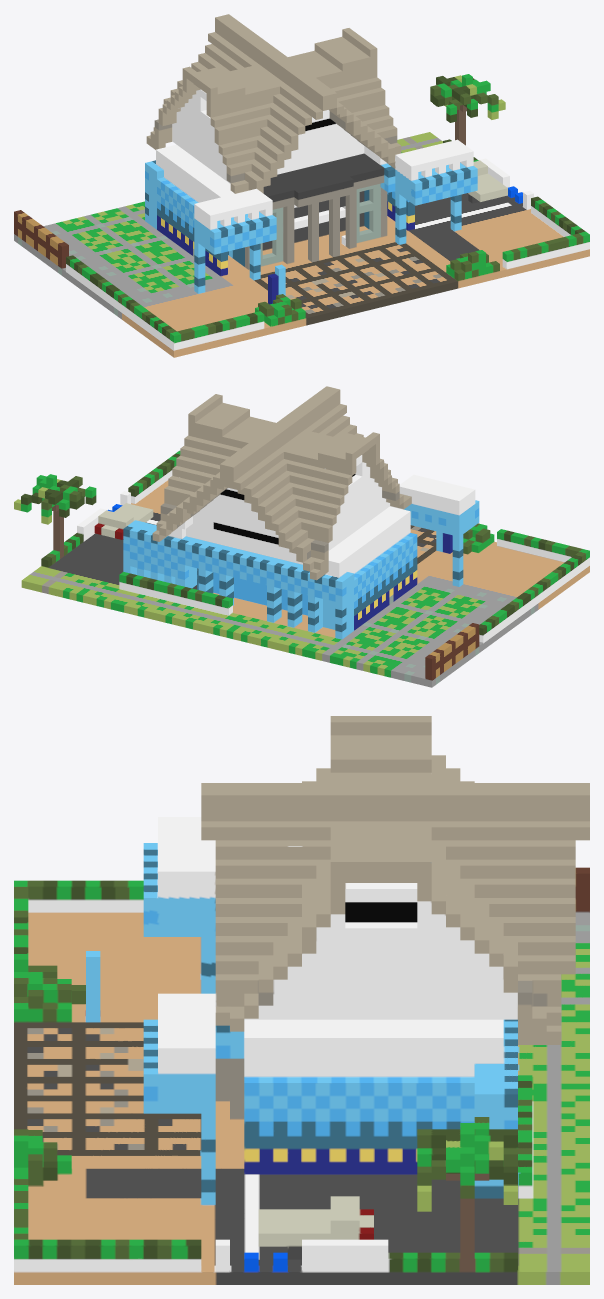
File: kagoshimasuizokukan.glb
The picture shows the model from 3 angles, top to bottom: view 1: azimuth 30°, elevation 25°; view 2: azimuth 150°, elevation 25°; view 3: azimuth 270°, elevation 25°; orthographic projection. The views are drawn at different scales.
Visible parts, largest first — view 1: kagoshimasuizokukan; view 2: kagoshimasuizokukan; view 3: kagoshimasuizokukan.
Part boxes in pixels (x1,y1,x2,y2): kagoshimasuizokukan: [14, 14, 589, 357]; kagoshimasuizokukan: [14, 386, 589, 687]; kagoshimasuizokukan: [14, 716, 589, 1284].
Bounding box in the file's own units: 1.28 × 0.48 × 0.8.
1 material, 1 textured.
